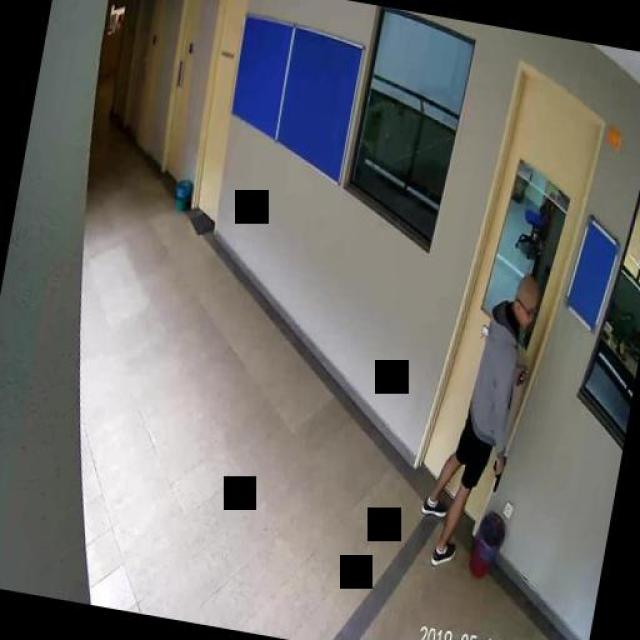gun: (487, 451, 505, 489)
